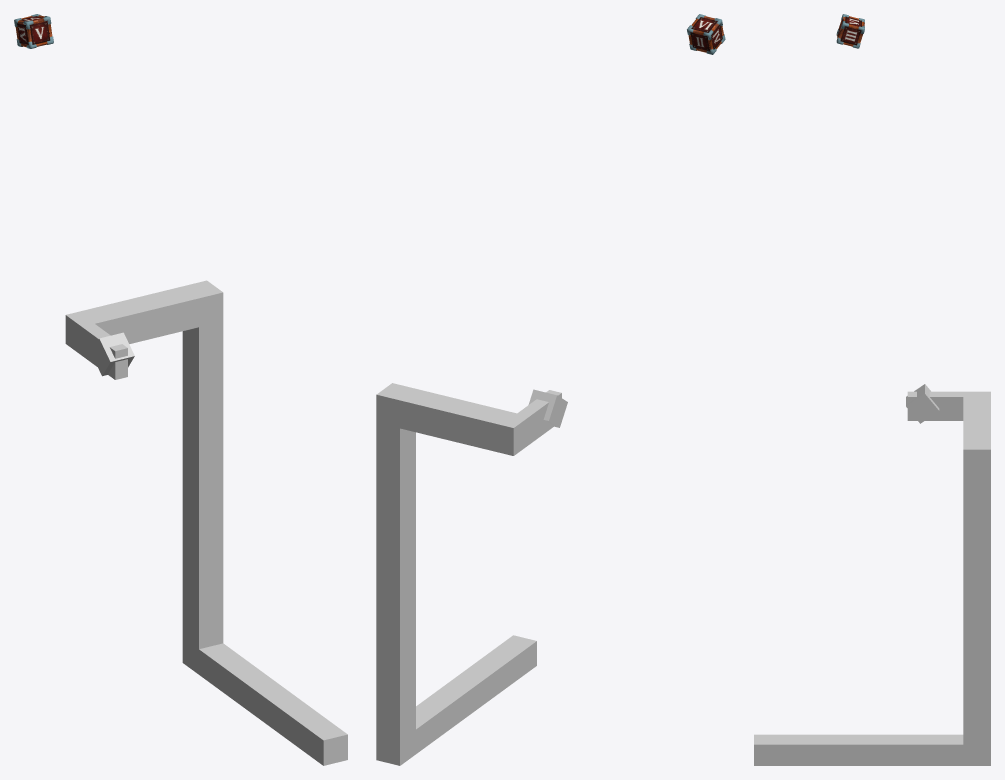
The model's file is Dice_Red_animation.fbx.
3 views of the same model, side by side, from view 1: azimuth 30°, elevation 25°; view 2: azimuth 150°, elevation 25°; view 3: azimuth 270°, elevation 25° (orthographic). The views are drawn at different scales.
Visible parts, largest first — view 1: Cube.002, Dice_Red; view 2: Cube.002, Dice_Red; view 3: Cube.002, Dice_Red.
Boxes of the visible parts, x1,y1,x2,y2 form: Cube.002: (65, 280, 347, 765); Dice_Red: (14, 14, 53, 48); Cube.002: (376, 383, 567, 765); Dice_Red: (687, 14, 725, 54); Cube.002: (754, 384, 990, 765); Dice_Red: (836, 14, 864, 48).
Bounding box in the file's own units: 2200 × 5984 × 2001.
4 materials, 3 textured.
